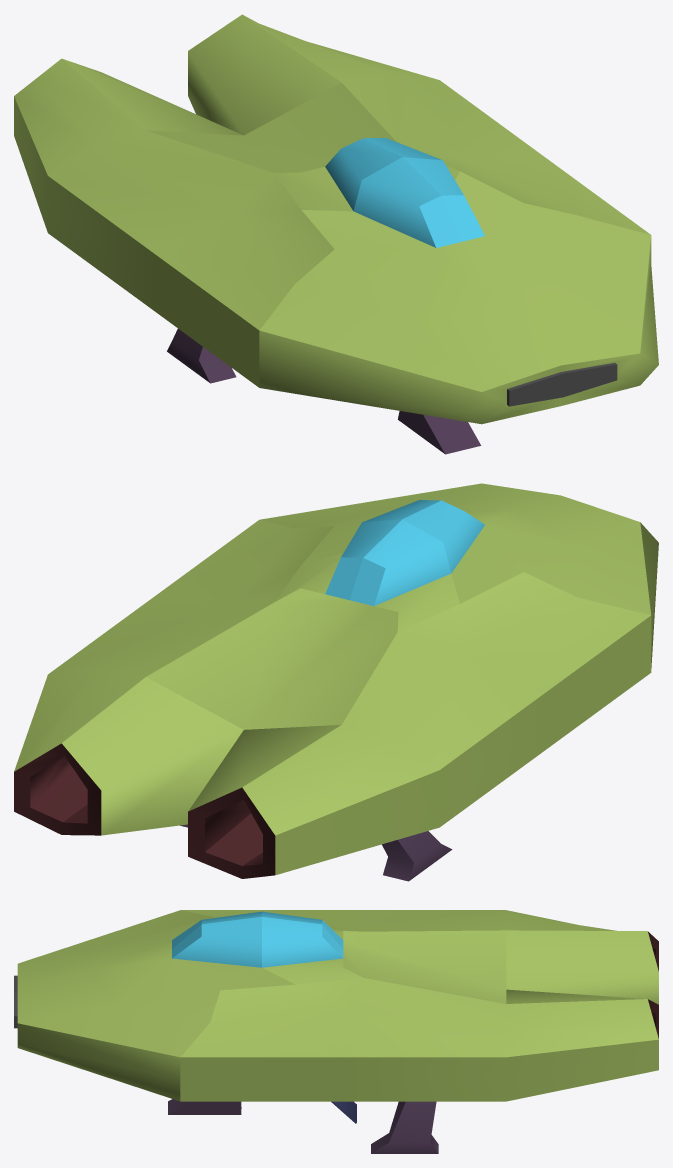
Rendered from Spaceship.fbx.
The picture shows the model from 3 angles, top to bottom: view 1: azimuth 30°, elevation 25°; view 2: azimuth 150°, elevation 25°; view 3: azimuth 270°, elevation 25°; orthographic projection. The views are drawn at different scales.
Parts seen in each view (by area): view 1: Cube; view 2: Cube; view 3: Cube.
Boxes of the visible parts, x1,y1,x2,y2 form: Cube: (14, 14, 658, 454); Cube: (14, 483, 658, 881); Cube: (14, 910, 658, 1153).
Size of the model in its own units: 669 by 1239 by 419.
